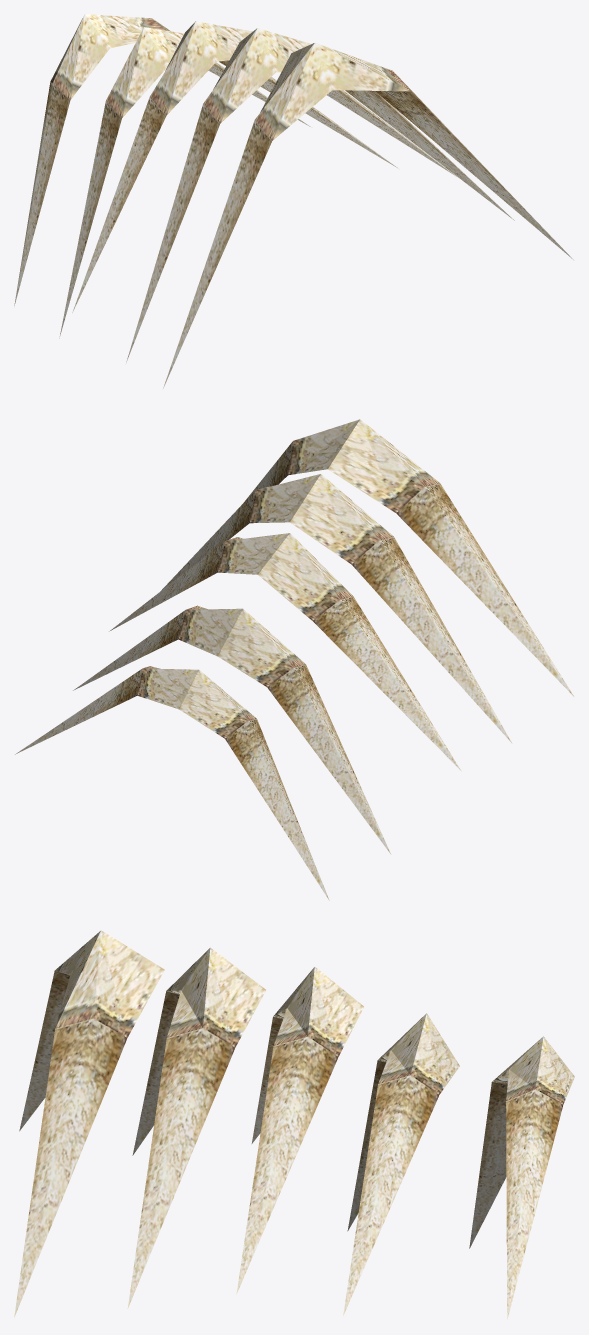
File: poi_tato_skel_krayt_ribcage_l3.fbx
3 views of the same model, one above another, from view 1: azimuth 30°, elevation 25°; view 2: azimuth 150°, elevation 25°; view 3: azimuth 270°, elevation 25° (orthographic). The views are drawn at different scales.
Parts seen in each view (by area): view 1: mesh_node; view 2: mesh_node; view 3: mesh_node.
Boxes of the visible parts, x1,y1,x2,y2 form: mesh_node: [14, 14, 573, 388]; mesh_node: [15, 419, 573, 900]; mesh_node: [14, 930, 574, 1319].
Bounding box in the file's own units: 3.81 × 3.15 × 4.08.
2 materials, 2 textured.
